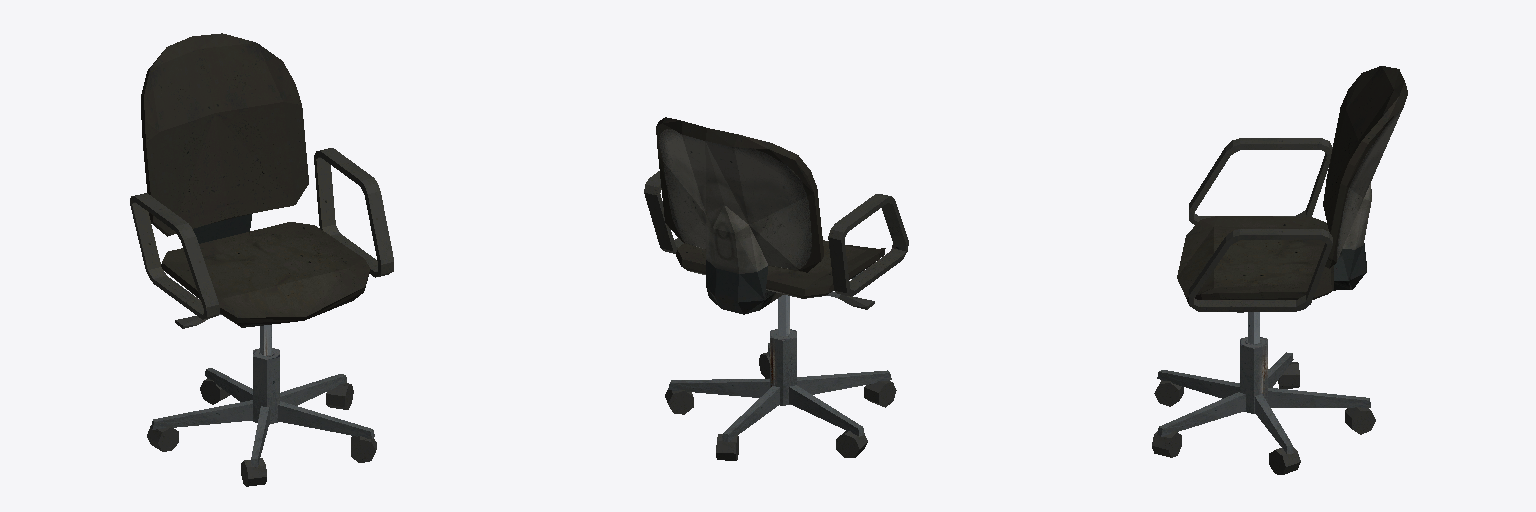
3 renders of one model, left to right at view 1: azimuth 30°, elevation 25°; view 2: azimuth 150°, elevation 25°; view 3: azimuth 270°, elevation 25°, orthographic.
Bounding box in the file's own units: 1.34 × 2.22 × 1.48.
Materials: 1 (1 with a texture image).